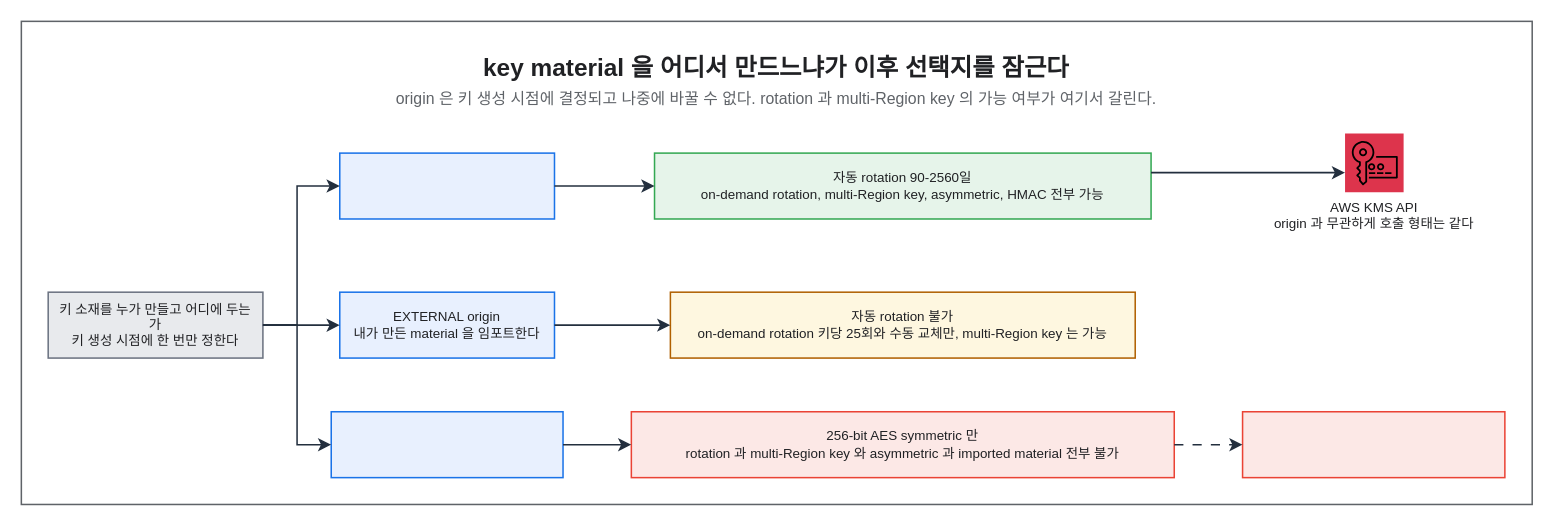
Some shapes in this 1554 by 527 pixel diagram are drawn without their labels. The box of each missing label's shape, as (x1, y1, x2, y2) in pixels:
AWS_KMS origin KMS 가 관리형 HSM 에서 생성한다: (338, 152, 555, 219)
CloudHSM key store 내 계정의 전용 HSM cluster 안에 둔다: (330, 410, 563, 478)
서로 다른 AZ 의 active HSM 2개 키 생성 조건, 연결이 끊기면 암호 연산 자체가 멈춘다: (1241, 410, 1505, 478)
